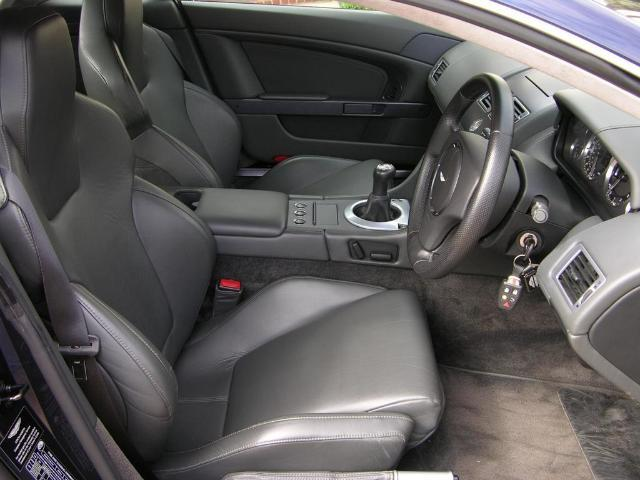Seatbelt: (0, 166, 152, 473)
